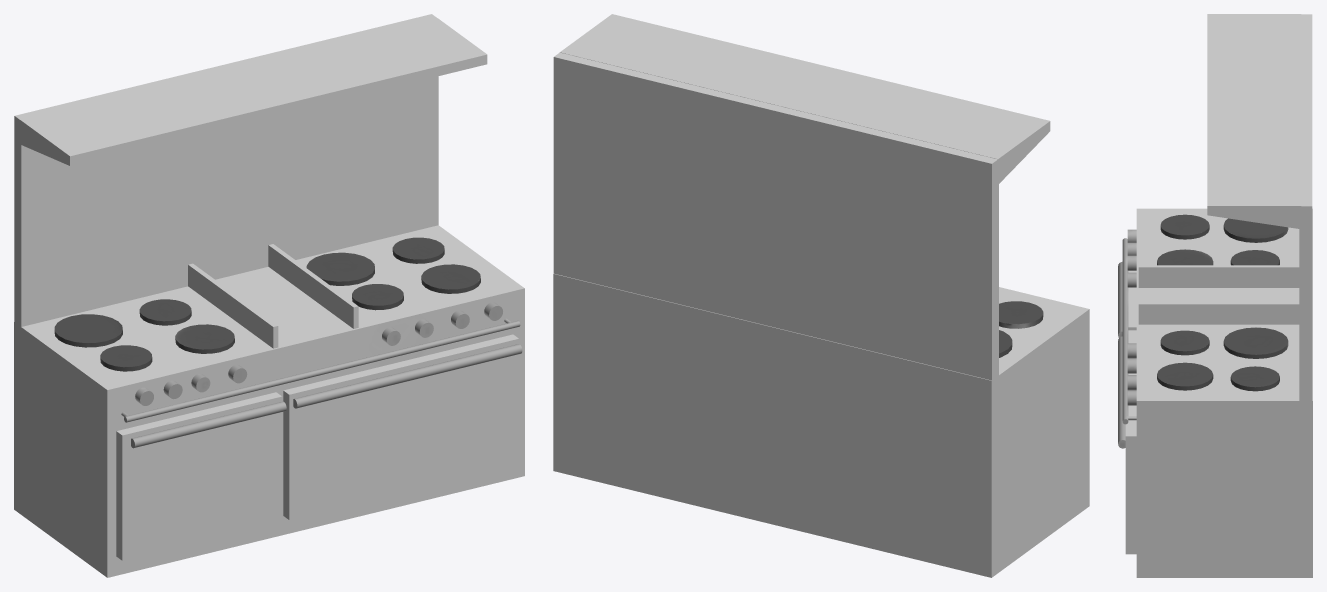
Rendered from stove.fbx.
3 views of the same model, side by side, from view 1: azimuth 30°, elevation 25°; view 2: azimuth 150°, elevation 25°; view 3: azimuth 270°, elevation 25° (orthographic). The views are drawn at different scales.
Parts seen in each view (by area): view 1: pCube8; view 2: pCube8; view 3: pCube8.
Part boxes in pixels (left/top/right/bottom): pCube8: left=14, top=14, right=524, bottom=577; pCube8: left=553, top=14, right=1089, bottom=577; pCube8: left=1118, top=14, right=1312, bottom=577.
Bounding box in the file's own units: 14.02 × 12.65 × 6.
Materials: 1 (1 with a texture image).
